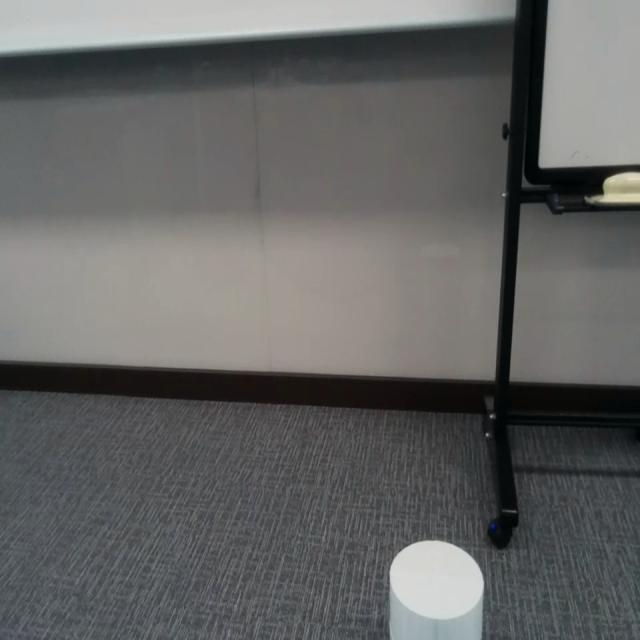cylinder: (387, 539, 487, 640)
